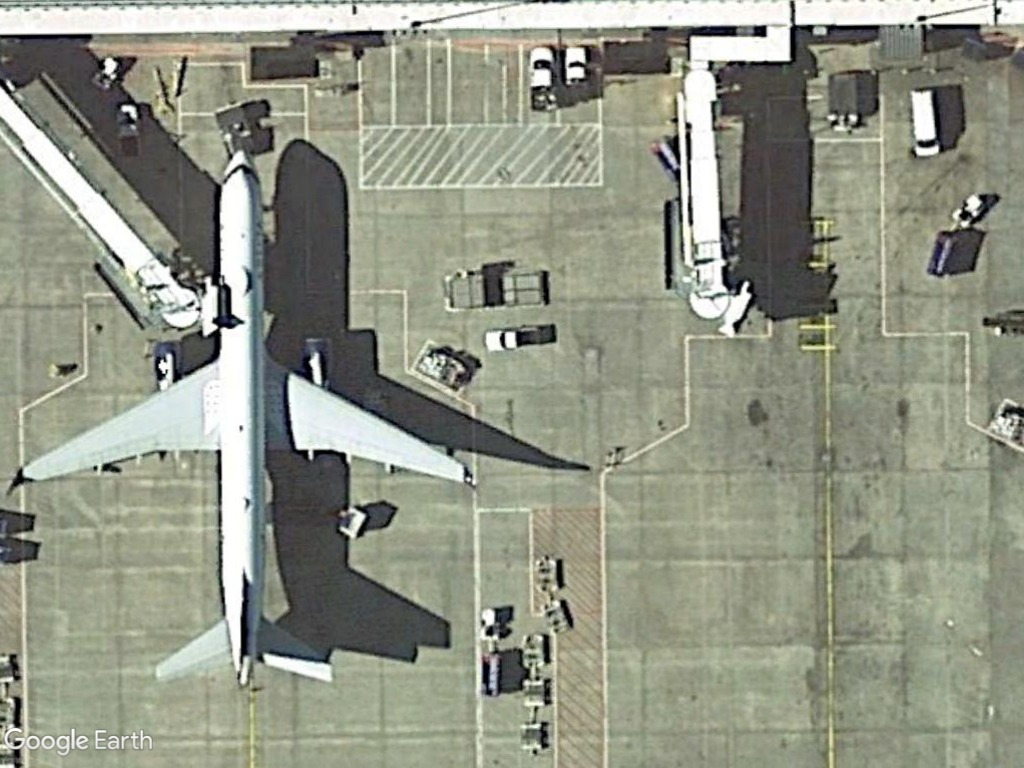airliner: (0, 141, 486, 695)
other: (523, 43, 563, 114)
van: (905, 84, 943, 162)
